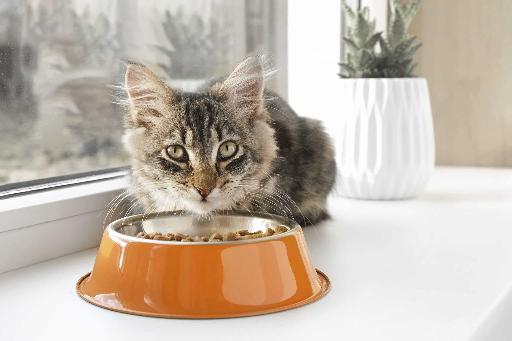cat_eating: (77, 56, 336, 319)
